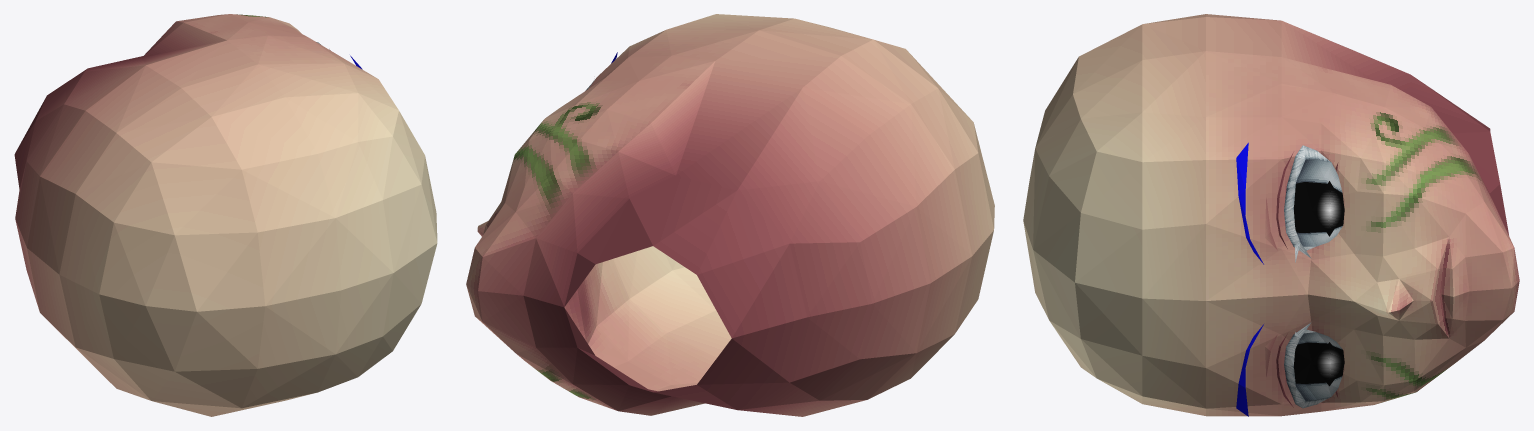
The model's file is Npc_60086.obj.
3 views of the same model, side by side, from view 1: azimuth 30°, elevation 25°; view 2: azimuth 150°, elevation 25°; view 3: azimuth 270°, elevation 25° (orthographic). The views are drawn at different scales.
Visible parts, largest first — view 1: Npc_60086; view 2: Npc_60086; view 3: Npc_60086.
Part boxes in pixels (box(x1,y1,x2,y2)): Npc_60086: box(14, 14, 437, 416); Npc_60086: box(466, 14, 994, 416); Npc_60086: box(1023, 14, 1519, 416).
Bounding box in the file's own units: 0.4136 × 0.342 × 0.4497.
Materials: 3 (2 with a texture image).
